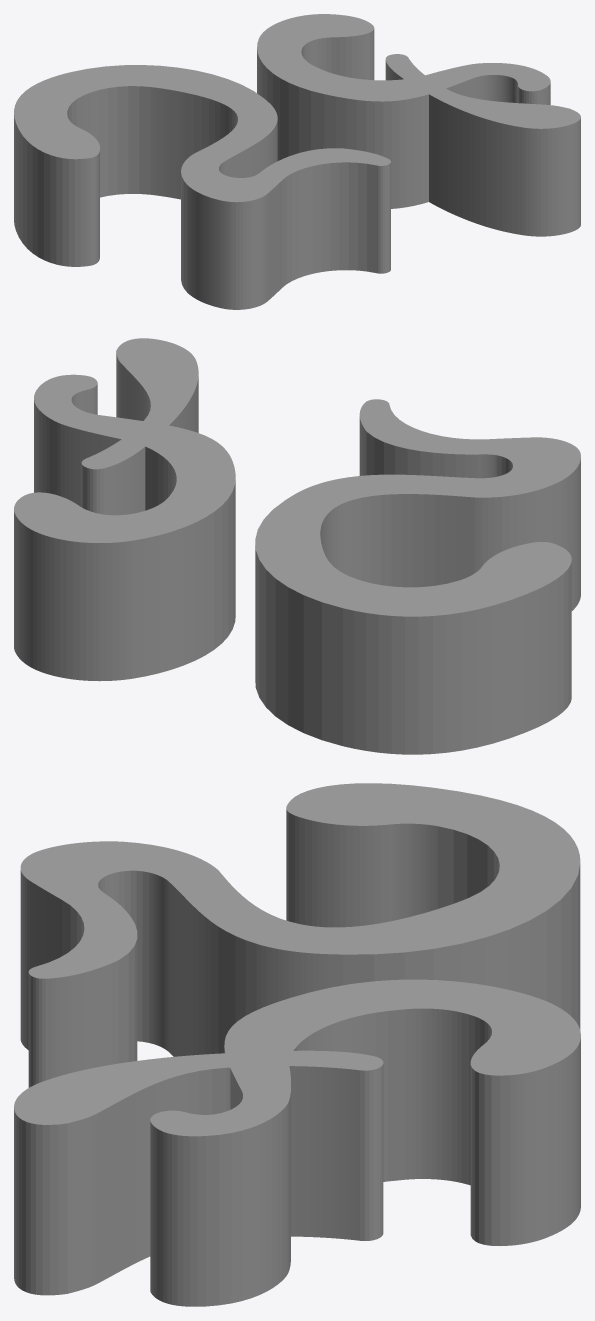
Rendered from item3d.glb.
3 views of the same model, one above another, from view 1: azimuth 30°, elevation 25°; view 2: azimuth 150°, elevation 25°; view 3: azimuth 270°, elevation 25° (orthographic). The views are drawn at different scales.
Parts seen in each view (by area): view 1: Curve, Curve.001; view 2: Curve, Curve.001; view 3: Curve.001, Curve.
Part boxes in pixels (x1=…): Curve: x1=14, y1=65, x2=390, y2=309; Curve.001: x1=257, y1=14, x2=580, y2=236; Curve: x1=255, y1=399, x2=580, y2=754; Curve.001: x1=14, y1=338, x2=235, y2=681; Curve.001: x1=14, y1=979, x2=580, y2=1306; Curve: x1=20, y1=783, x2=580, y2=1087.
Bounding box in the file's own units: 4.44 × 1 × 3.01.
1 material, 1 textured.
